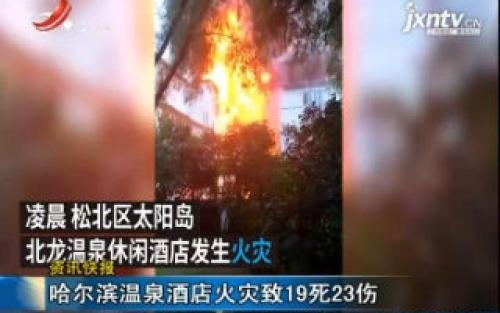fire: (201, 3, 275, 131)
